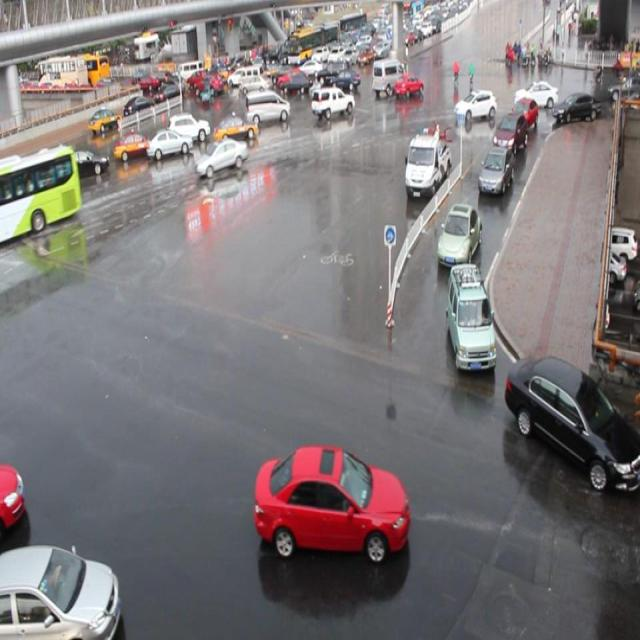bus: (403, 129, 450, 202)
car: (504, 354, 640, 491), (254, 442, 408, 558), (1, 544, 118, 640), (446, 262, 495, 370), (436, 202, 481, 266), (195, 138, 247, 177), (56, 146, 110, 180), (478, 145, 514, 194), (166, 108, 209, 144), (310, 86, 354, 118), (213, 115, 258, 146), (453, 89, 495, 121), (492, 112, 526, 150), (147, 130, 193, 158), (113, 129, 153, 158), (508, 96, 537, 128)
truck: (244, 90, 290, 122)
van: (1, 146, 81, 242)
